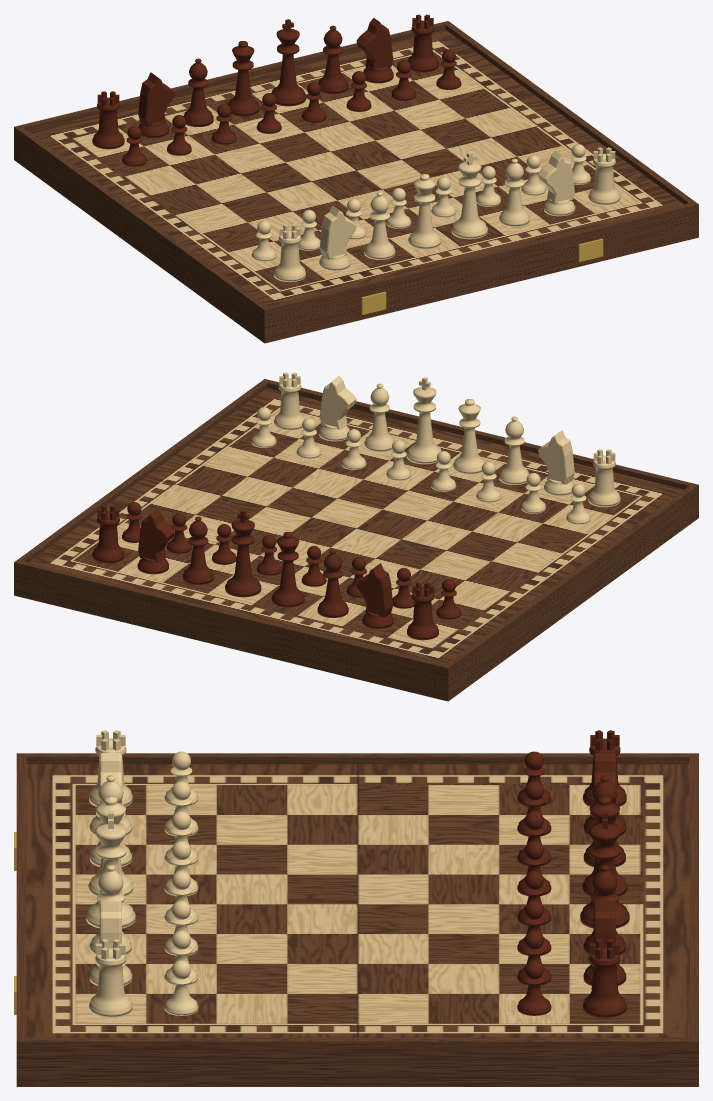
File: philidor-3d-noyer-pliable-29-v2.glb
3 renders of one model, top to bottom at view 1: azimuth 30°, elevation 25°; view 2: azimuth 150°, elevation 25°; view 3: azimuth 270°, elevation 25°, orthographic. The views are drawn at different scales.
Parts seen in each view (by area): view 1: noyer-pliable-29; view 2: noyer-pliable-29; view 3: noyer-pliable-29.
Boxes of the visible parts, box(x1,y1,x2,y2) form: noyer-pliable-29: box(14, 14, 698, 343); noyer-pliable-29: box(14, 372, 698, 701); noyer-pliable-29: box(14, 730, 698, 1086).
Size of what is drawn, in the model's own units: 0.29 by 0.068 by 0.2912.
5 materials, 2 textured.
